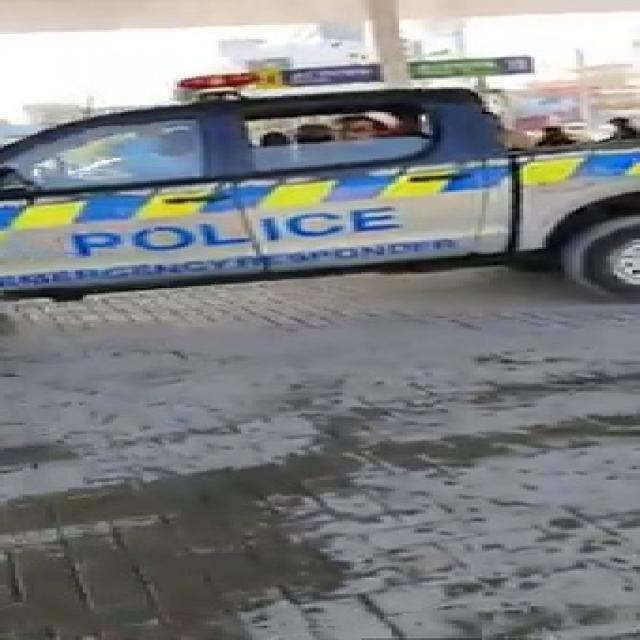police: (0, 40, 640, 330)
